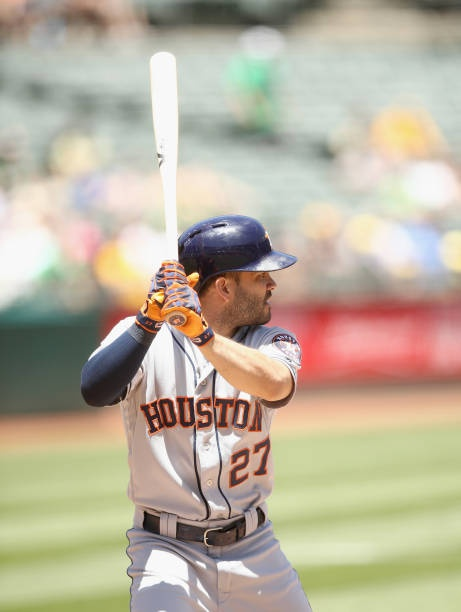bita: (147, 58, 188, 319)
